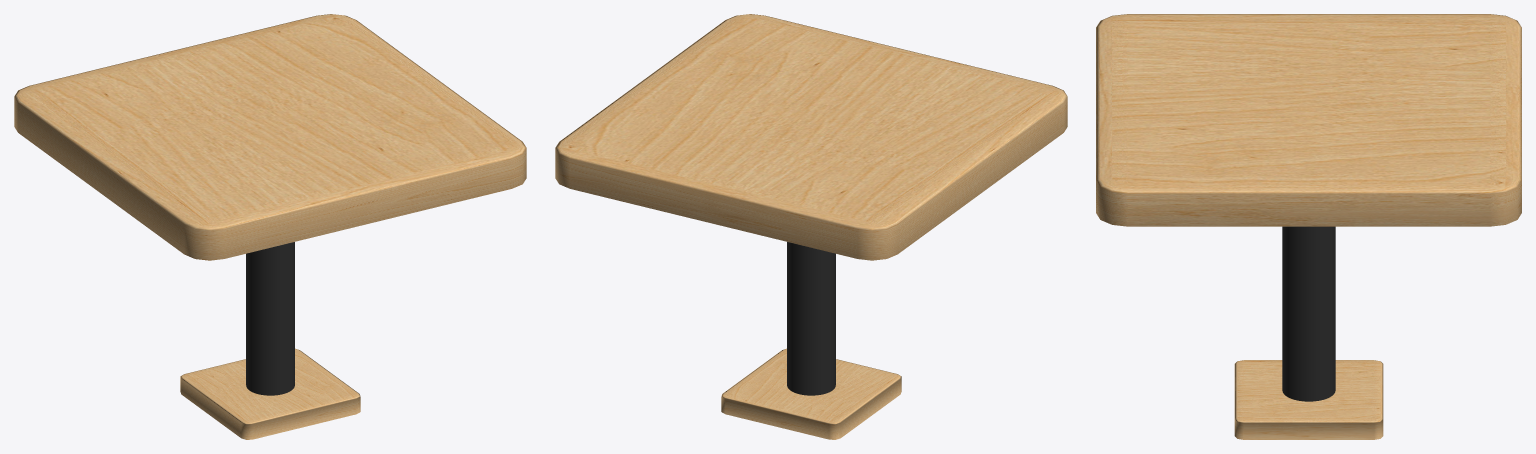
Rendered from cafe_table_edited.fbx.
3 views of the same model, side by side, from view 1: azimuth 30°, elevation 25°; view 2: azimuth 150°, elevation 25°; view 3: azimuth 270°, elevation 25° (orthographic). The views are drawn at different scales.
Parts seen in each view (by area): view 1: Tabletop; view 2: Tabletop; view 3: Tabletop.
Part boxes in pixels (x1,y1,x2,y2): Tabletop: [14, 14, 526, 439]; Tabletop: [555, 14, 1067, 439]; Tabletop: [1096, 14, 1521, 439].
Size of the model in its own units: 200 by 160 by 200.
